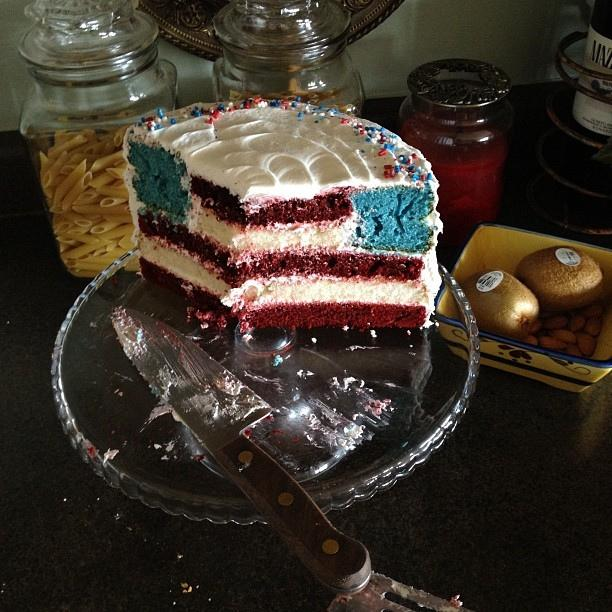almond: (548, 329, 578, 345), (576, 333, 596, 356), (538, 335, 568, 349), (576, 305, 604, 320), (541, 315, 568, 330), (568, 315, 586, 332), (520, 335, 538, 345), (582, 302, 602, 311), (529, 319, 542, 332)
kiwi: (514, 245, 607, 317), (459, 268, 540, 340)
